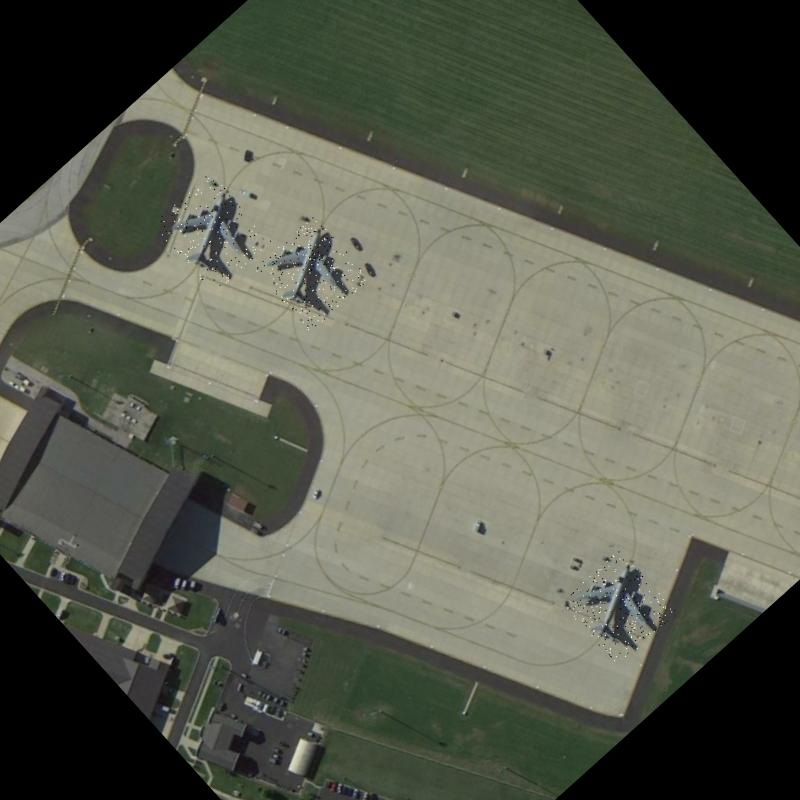A14: (152, 171, 272, 293), (560, 548, 678, 666), (254, 214, 370, 332)
